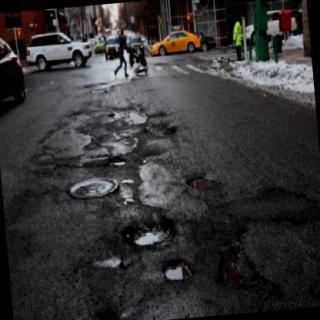pothole: (218, 237, 282, 296), (121, 218, 177, 247), (162, 260, 195, 283), (187, 178, 212, 188)
